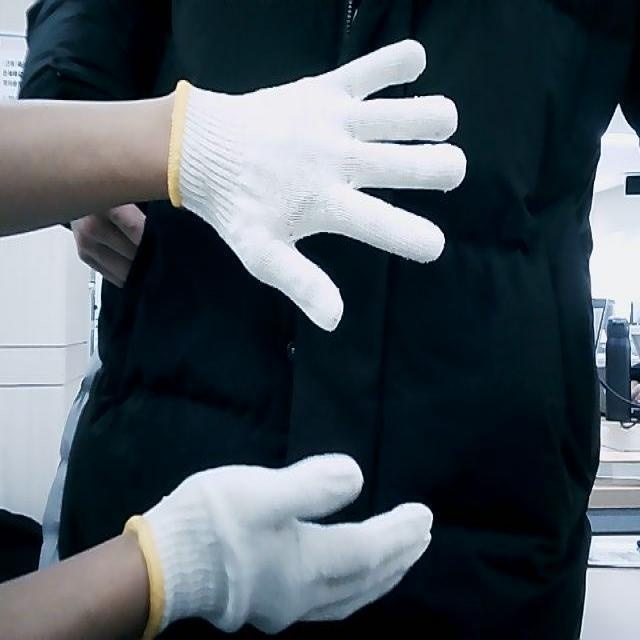Guantes: (170, 36, 468, 332), (124, 452, 435, 640)
